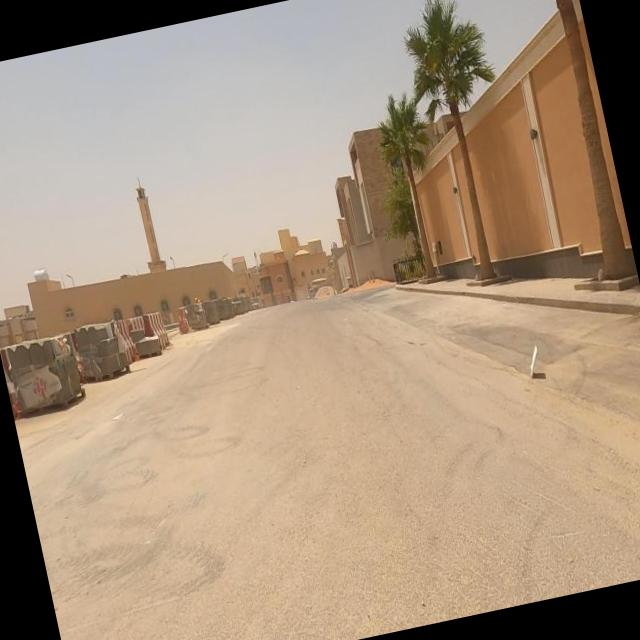debris: (486, 309, 574, 418)
